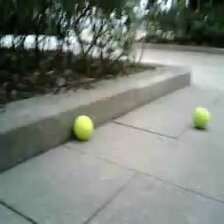tennis: (73, 116, 93, 139), (192, 107, 208, 127)
